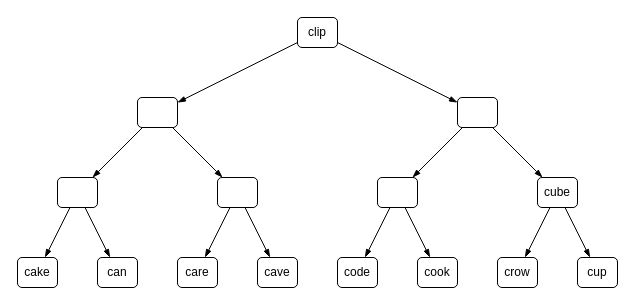
Image size: 635x305. Some labels were removed from this diagram. The centre of each missing label's shape, as x and y in pixels:
"call" belongs at [77,192].
"car" belongs at [157,112].
"cat" belongs at [237,192].
"coin" belongs at [397,192].
"crab" belongs at [477,112].
